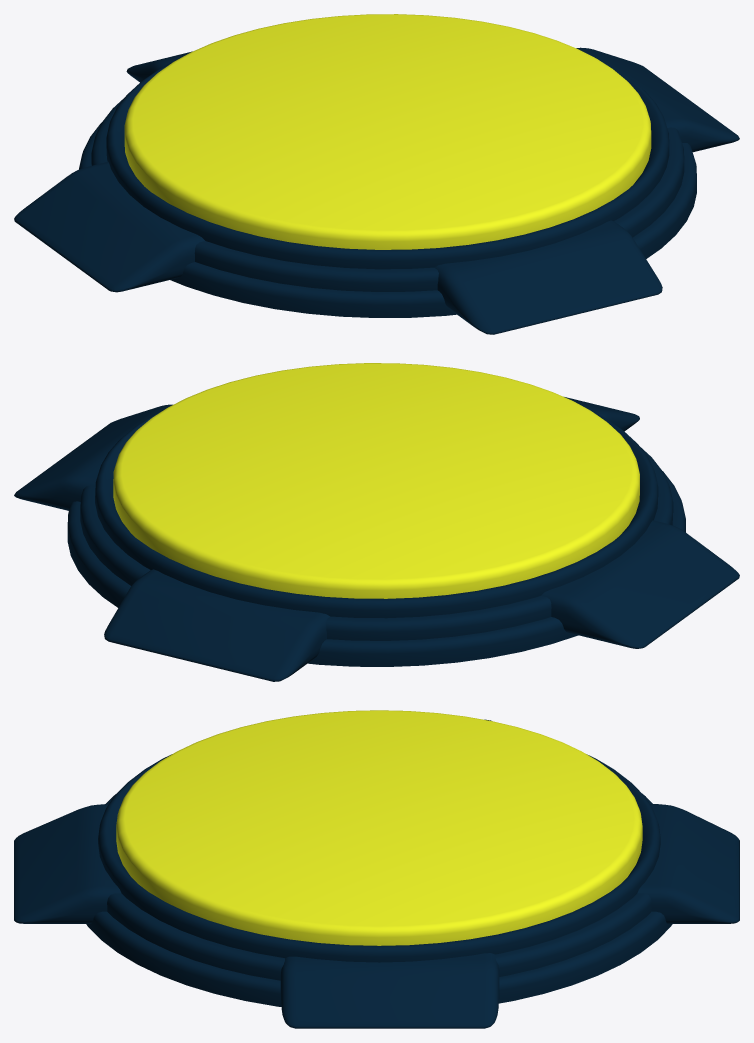
Rendered from platform2.fbx.
The picture shows the model from 3 angles, top to bottom: view 1: azimuth 30°, elevation 25°; view 2: azimuth 150°, elevation 25°; view 3: azimuth 270°, elevation 25°; orthographic projection.
Visible parts, largest first — view 1: Line008, Box003, Box002; view 2: Line008, Box003, Box002; view 3: Line008, Box002, Box003.
Part boxes in pixels (x1,y1,x2,y2): Line008: (79,14,696,317); Box003: (14,47,739,292); Box002: (126,51,662,334); Line008: (67,363,685,666); Box003: (14,404,739,648); Box002: (104,397,639,681); Line008: (86,710,672,1006); Box002: (14,804,739,923); Box003: (280,719,499,1028).
Bounding box in the file's own units: 701 × 68.99 × 701.
